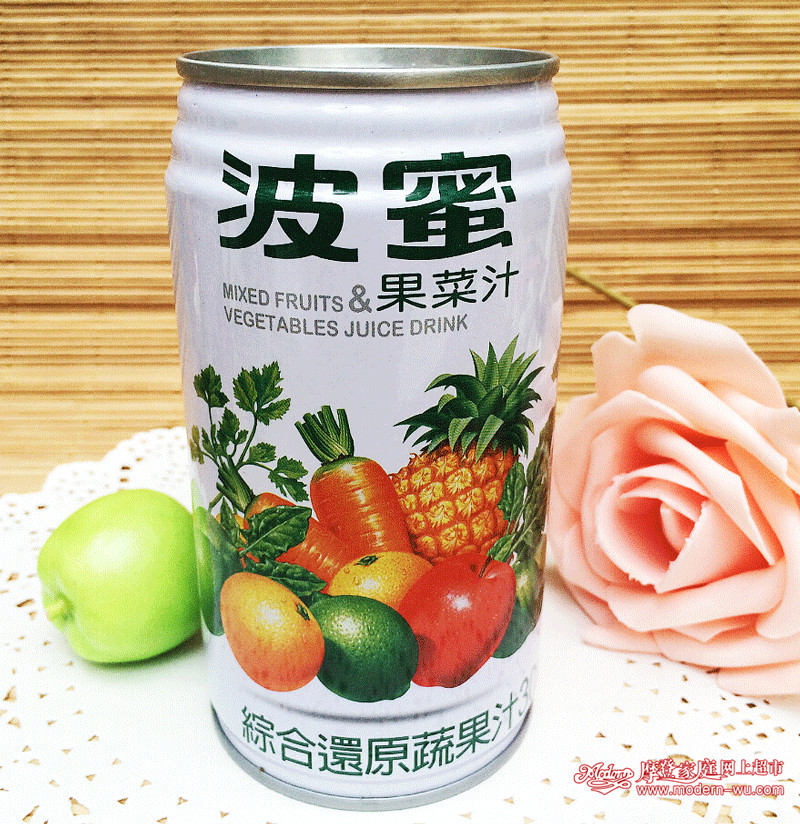vegetables juice: (177, 123, 541, 778)
